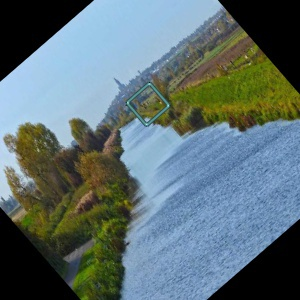square: (124, 80, 172, 127)
